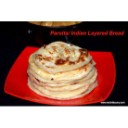parota: (29, 68, 95, 98), (34, 42, 92, 74)
